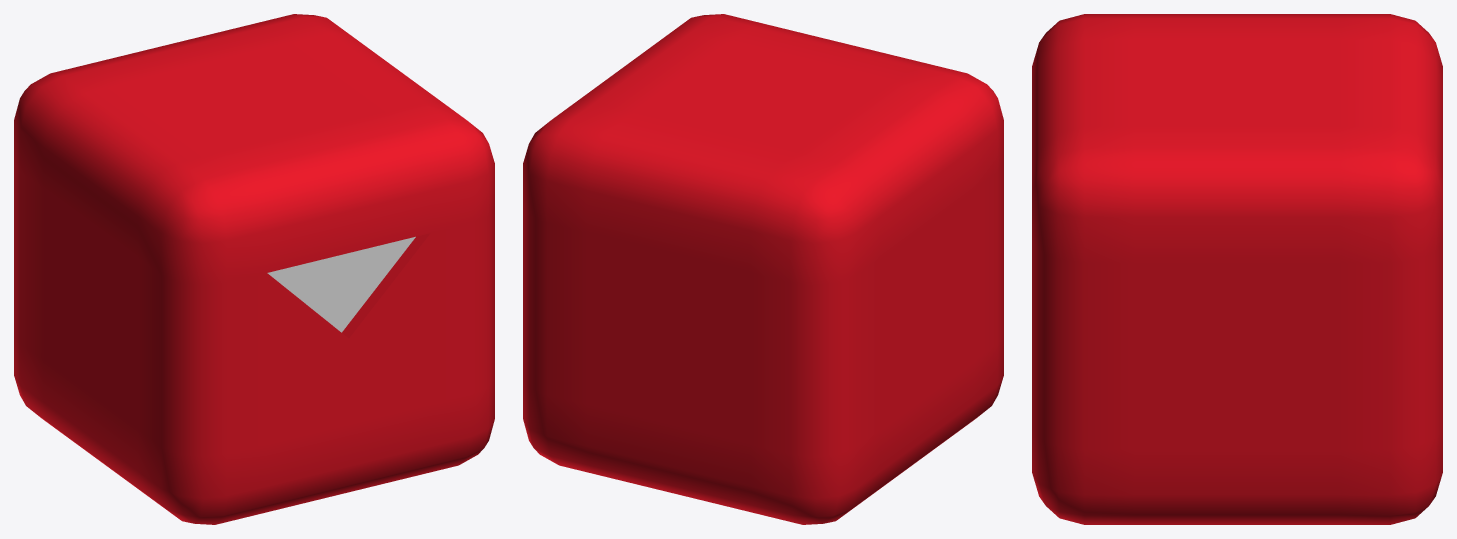
Rendered from Block.fbx.
The picture shows the model from 3 angles, left to right: view 1: azimuth 30°, elevation 25°; view 2: azimuth 150°, elevation 25°; view 3: azimuth 270°, elevation 25°; orthographic projection. The views are drawn at different scales.
Parts seen in each view (by area): view 1: Block Surface; view 2: Block Surface; view 3: Block Surface.
Boxes of the visible parts, x1=… form: Block Surface: x1=14, y1=14, x2=494, y2=524; Block Surface: x1=523, y1=14, x2=1003, y2=524; Block Surface: x1=1032, y1=14, x2=1442, y2=524.
Size of the model in its own units: 200 by 200 by 200.
